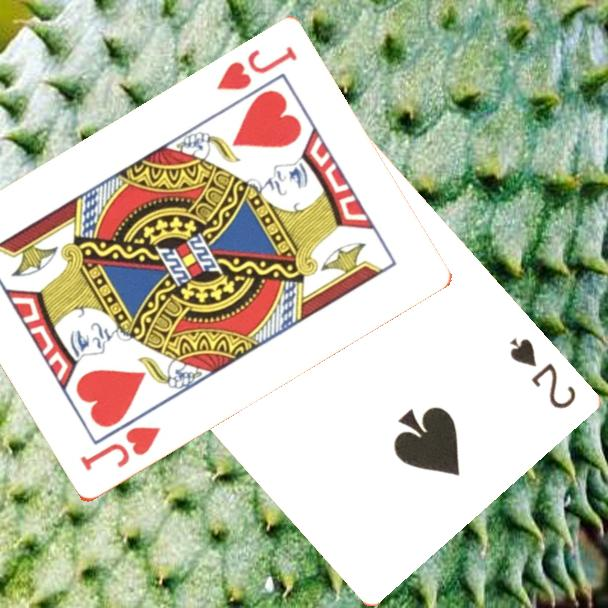h11: (76, 423, 164, 475), (213, 43, 300, 94)
s02: (505, 334, 578, 412)
